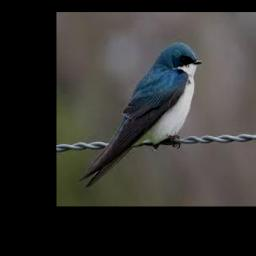Swallow: (79, 43, 204, 187)
